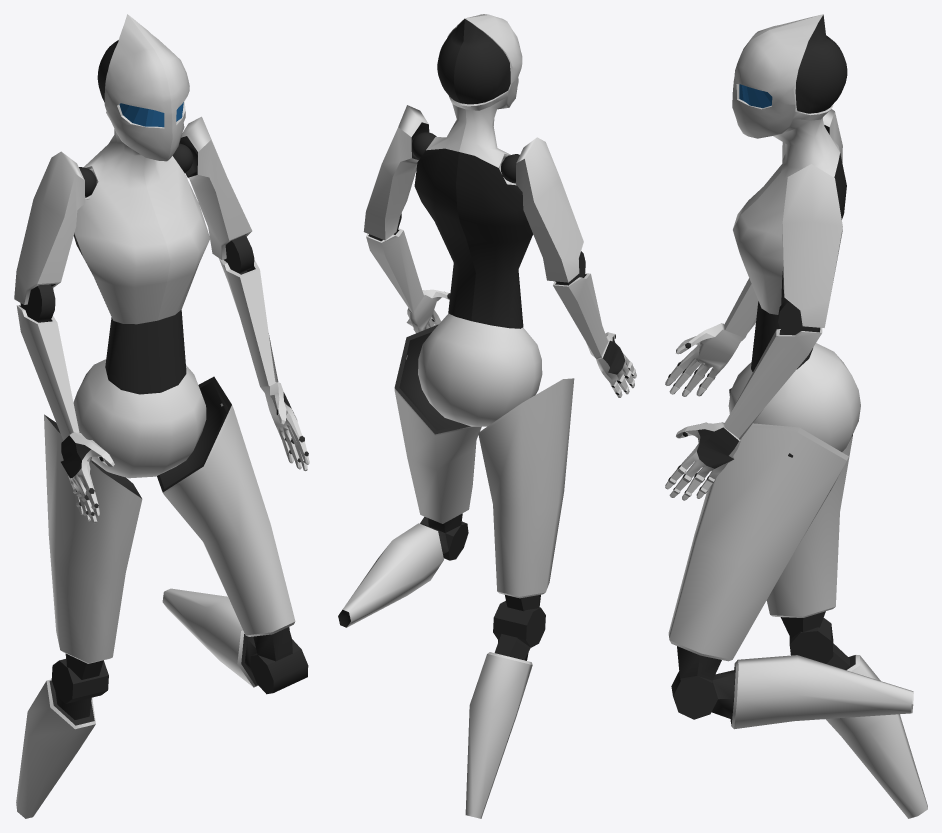
File: player_lautern_asset.fbx
The picture shows the model from 3 angles, left to right: view 1: azimuth 30°, elevation 25°; view 2: azimuth 150°, elevation 25°; view 3: azimuth 270°, elevation 25°; orthographic projection. The views are drawn at different scales.
Visible parts, largest first — view 1: player_lautern_body, player_lautern_right_arm, player_lautern_left_arm; view 2: player_lautern_body, player_lautern_right_arm, player_lautern_left_arm; view 3: player_lautern_body, player_lautern_left_arm, player_lautern_right_arm.
Part boxes in pixels (box(x1,y1,x2,y2)): player_lautern_body: box(16, 14, 308, 818); player_lautern_right_arm: box(14, 151, 114, 523); player_lautern_left_arm: box(179, 116, 309, 471); player_lautern_body: box(338, 14, 574, 818); player_lautern_right_arm: box(515, 137, 636, 397); player_lautern_left_arm: box(363, 105, 450, 333); player_lautern_body: box(668, 14, 927, 818); player_lautern_left_arm: box(665, 164, 842, 500); player_lautern_right_arm: box(665, 109, 842, 396).
Bounding box in the file's own units: 0.6408 × 2.18 × 0.625.
